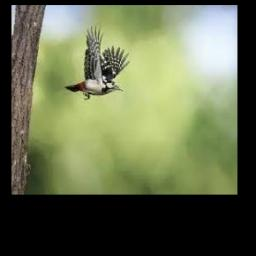Woodpecker: (65, 23, 131, 100)
